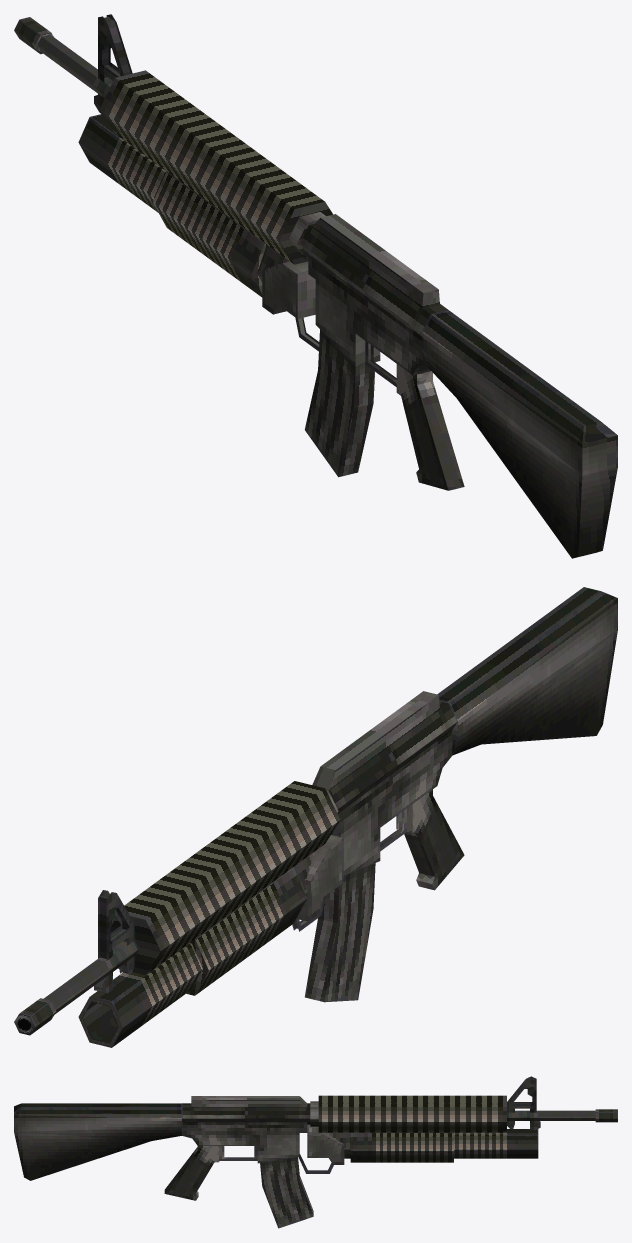
Rendered from recovered_gun_m16_m203.glb.
The picture shows the model from 3 angles, top to bottom: view 1: azimuth 30°, elevation 25°; view 2: azimuth 150°, elevation 25°; view 3: azimuth 270°, elevation 25°; orthographic projection. The views are drawn at different scales.
Visible parts, largest first — view 1: Gun_f8f8cf3f9285; view 2: Gun_f8f8cf3f9285; view 3: Gun_f8f8cf3f9285.
Part boxes in pixels (x1,y1,x2,y2): Gun_f8f8cf3f9285: (14,14,617,558); Gun_f8f8cf3f9285: (20,587,617,1047); Gun_f8f8cf3f9285: (14,1076,617,1228).
Bounding box in the file's own units: 0.0618 × 0.2728 × 1.
Materials: 2 (2 with a texture image).
